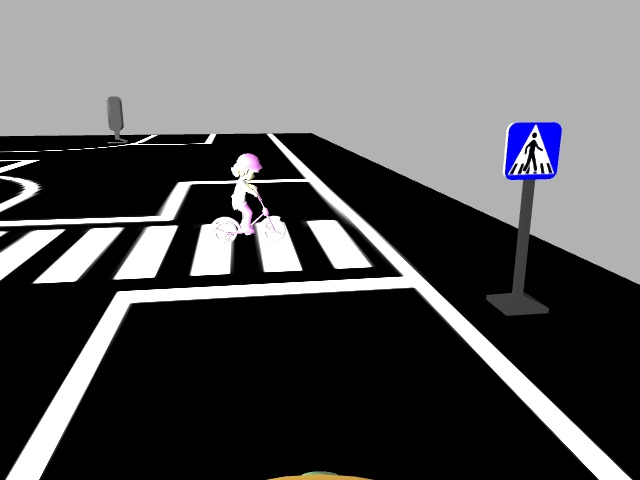Crosswalk: (502, 120, 563, 181)
Pedestrian: (209, 149, 292, 245)
